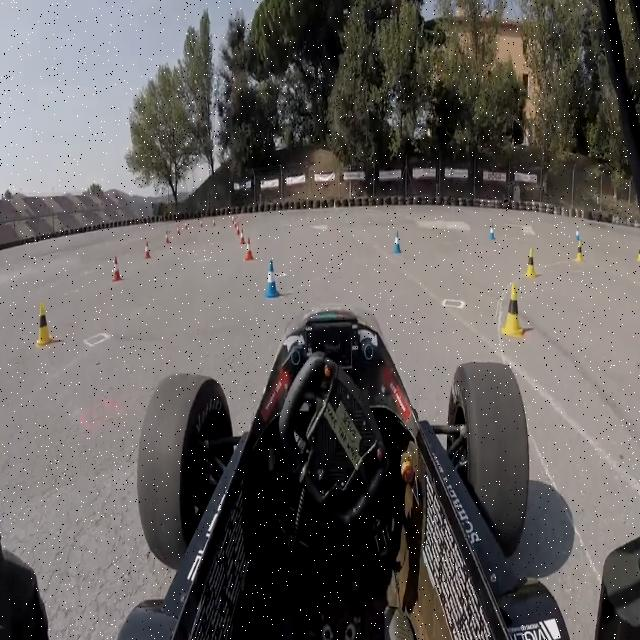blue_cone: (264, 258, 282, 304), (392, 228, 402, 254), (488, 222, 496, 242)
orange_cone: (242, 236, 256, 260), (112, 254, 122, 284), (144, 240, 152, 262), (164, 229, 172, 247), (240, 227, 246, 244), (177, 224, 181, 237)
yellow_cone: (500, 279, 528, 349), (34, 302, 54, 348), (520, 243, 540, 285)
